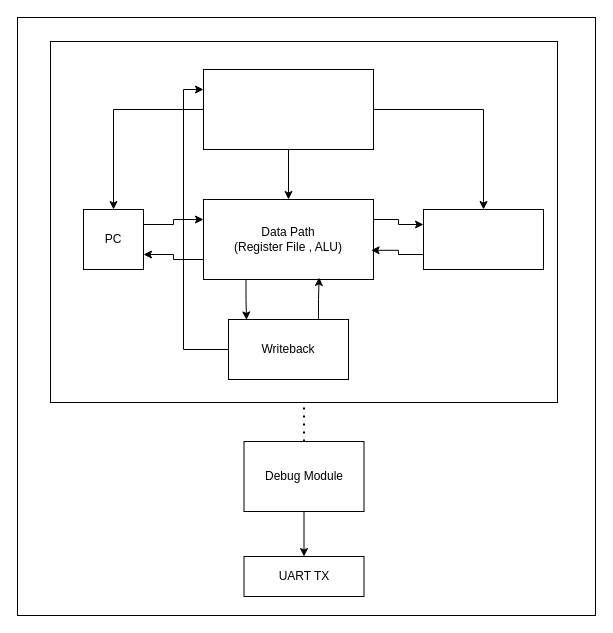
Image size: 613x633. Some labels were removed from this diagram. Here are the shapes that lost their labels. From the top down, the box of each, then its label:
(202, 68, 374, 150): Control Unit (FSM)
(422, 208, 544, 270): Memory (BRAM)
